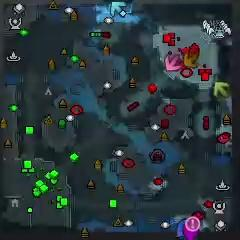Other: (186, 216, 200, 232)
p1: (177, 218, 189, 238)
p3: (183, 220, 200, 240)
x1: (165, 56, 180, 71)
x2: (214, 82, 230, 98)
x3: (111, 1, 126, 17)
x5: (184, 54, 198, 67)
